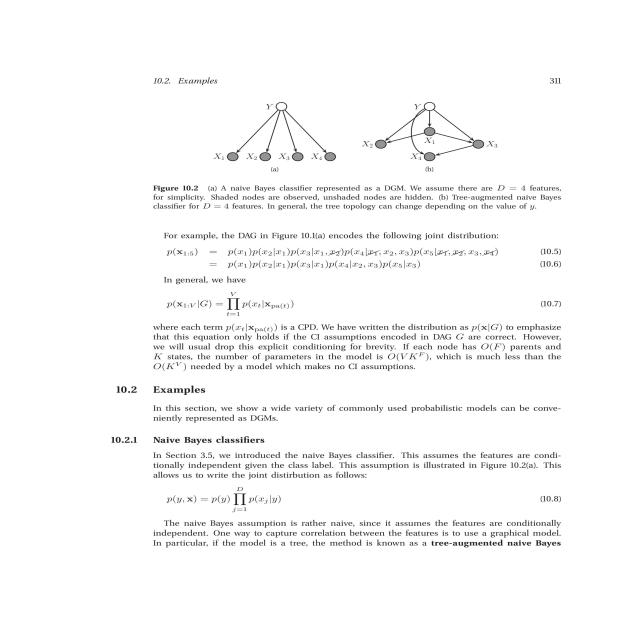diagram: (150, 72, 568, 225)
